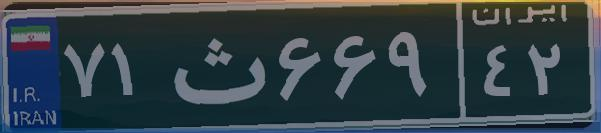1: (110, 28, 158, 105)
2: (525, 38, 570, 115)
4: (475, 38, 525, 113)
6: (273, 28, 330, 110), (330, 28, 385, 110)
7: (57, 26, 110, 107)
9: (385, 28, 445, 110)
ث: (158, 15, 273, 115)
